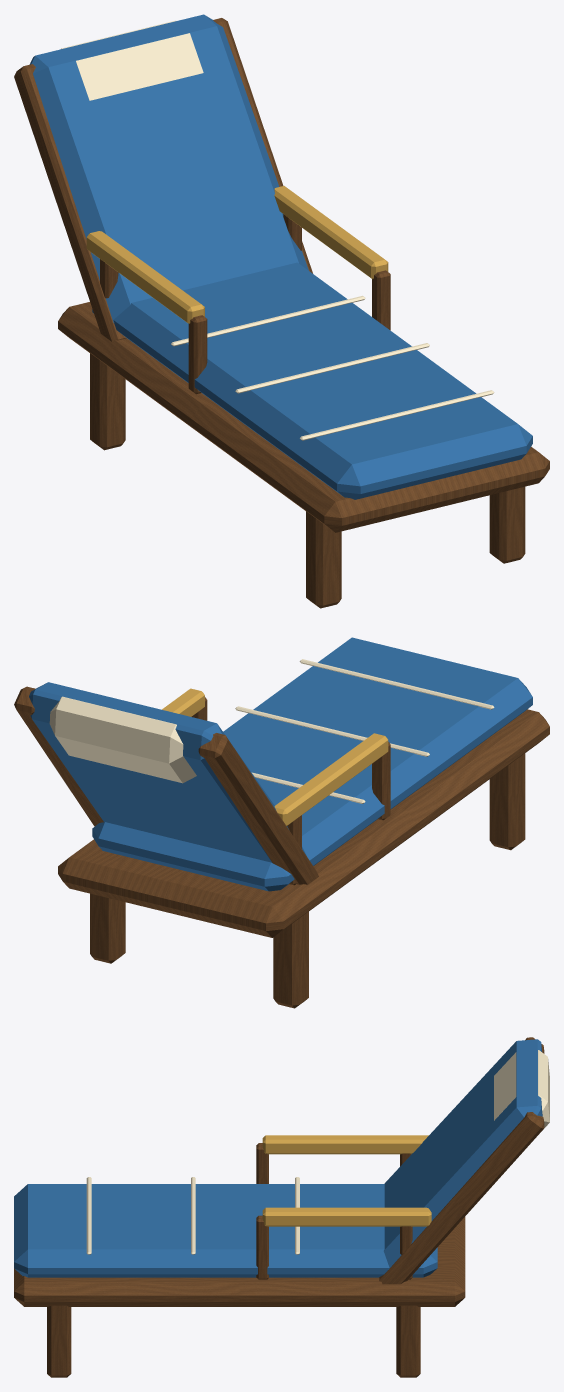
Rendered from sunbed.glb.
The picture shows the model from 3 angles, top to bottom: view 1: azimuth 30°, elevation 25°; view 2: azimuth 150°, elevation 25°; view 3: azimuth 270°, elevation 25°; orthographic projection. The views are drawn at different scales.
Visible parts, largest first — view 1: Sapphire chaise mattress, Reclined upholstered back, Long walnut chaise frame, Ivory head pillow, Sloped back support, Low brass arm rest, Low brass arm rest.001, Sunbed leg, Sunbed leg.001, Sunbed leg.002, Arm rest upright, Sloped back support.001 (+4 smaller); view 2: Sapphire chaise mattress, Long walnut chaise frame, Reclined upholstered back, Ivory head pillow, Sloped back support, Low brass arm rest, Sunbed leg, Sunbed leg.001, Sunbed leg.003, Sloped back support.001, Arm rest upright, Woven cushion piping (+2 smaller); view 3: Sapphire chaise mattress, Long walnut chaise frame, Reclined upholstered back, Sloped back support.001, Low brass arm rest.001, Low brass arm rest, Sunbed leg.002, Sunbed leg.003, Ivory head pillow, Arm rest upright.002, Arm rest upright, Woven cushion piping.
Part boxes in pixels (<box>): Sapphire chaise mattress: <box>92,262,532,499</box>; Reclined upholstered back: <box>30,14,308,322</box>; Long walnut chaise frame: <box>58,302,549,532</box>; Ivory head pillow: <box>61,20,203,100</box>; Sloped back support: <box>14,64,126,341</box>; Low brass arm rest: <box>86,231,204,323</box>; Low brass arm rest.001: <box>274,186,388,279</box>; Sunbed leg: <box>306,511,341,608</box>; Sunbed leg.001: <box>90,353,125,450</box>; Sunbed leg.002: <box>489,486,525,563</box>; Arm rest upright: <box>188,315,207,394</box>; Sloped back support.001: <box>213,18,312,273</box>; Sapphire chaise mattress: <box>92,637,532,891</box>; Long walnut chaise frame: <box>58,709,549,937</box>; Reclined upholstered back: <box>29,682,306,862</box>; Ivory head pillow: <box>49,696,196,783</box>; Sloped back support: <box>198,733,318,884</box>; Low brass arm rest: <box>274,733,388,825</box>; Sunbed leg: <box>489,753,525,850</box>; Sunbed leg.001: <box>273,911,308,1008</box>; Sunbed leg.003: <box>90,893,125,963</box>; Sloped back support.001: <box>14,686,103,826</box>; Arm rest upright: <box>372,742,390,820</box>; Woven cushion piping: <box>299,659,494,709</box>; Sapphire chaise mattress: <box>14,1184,437,1277</box>; Long walnut chaise frame: <box>14,1217,465,1306</box>; Reclined upholstered back: <box>383,1039,542,1269</box>; Sloped back support.001: <box>379,1112,544,1284</box>; Low brass arm rest.001: <box>262,1207,431,1226</box>; Low brass arm rest: <box>262,1135,428,1154</box>; Sunbed leg.002: <box>47,1305,71,1377</box>; Sunbed leg.003: <box>396,1305,420,1377</box>; Ivory head pillow: <box>494,1050,549,1129</box>; Arm rest upright.002: <box>256,1215,268,1279</box>; Arm rest upright: <box>256,1143,268,1183</box>; Woven cushion piping: <box>86,1177,91,1254</box>.
Bounding box in the file's own units: 0.91 × 1.27 × 2.32.
Materials: 4 (1 with a texture image).
